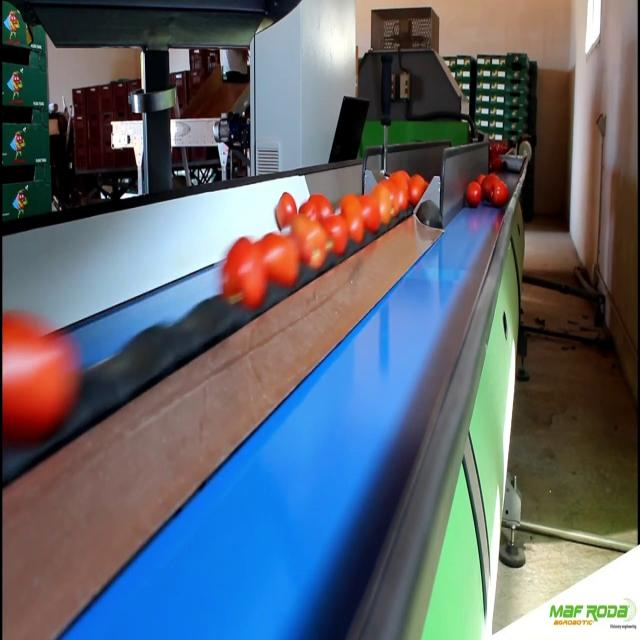Tomato: (0, 296, 78, 426), (224, 238, 266, 307), (253, 234, 299, 284), (290, 220, 326, 268), (339, 194, 369, 242), (324, 215, 351, 258), (356, 194, 382, 229), (386, 175, 409, 213), (301, 191, 331, 218), (272, 193, 295, 222), (373, 183, 390, 221), (404, 176, 424, 201), (484, 170, 500, 198), (492, 182, 510, 204), (468, 178, 482, 205)
